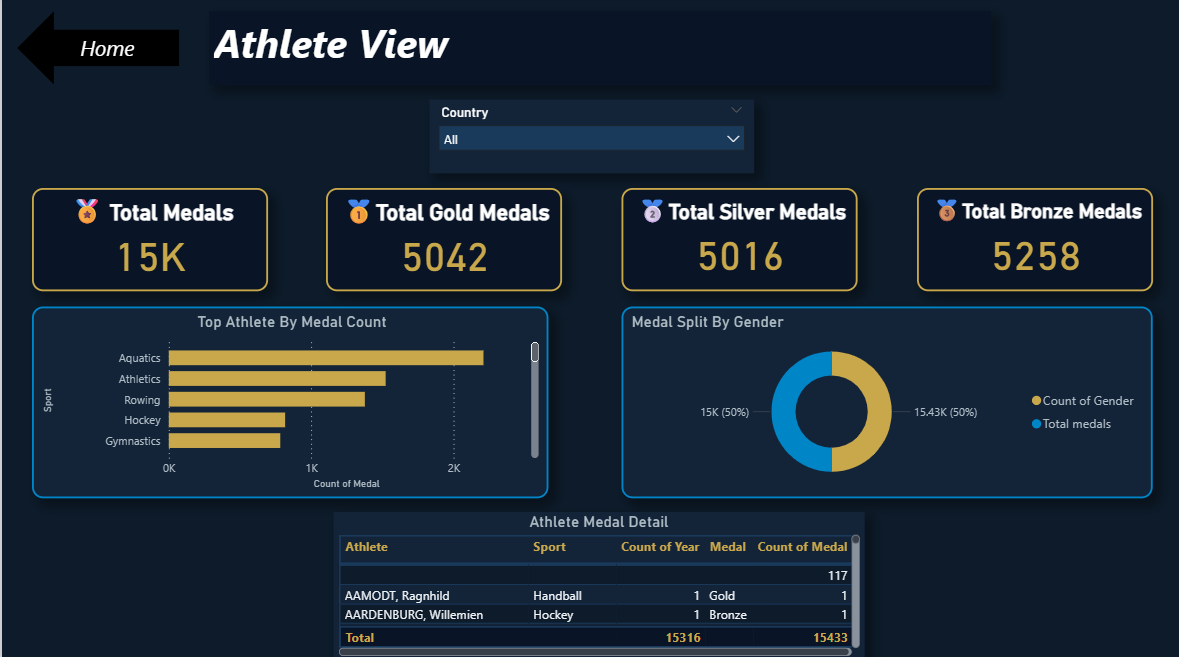

The dashboard page shown, as its layout file describes it:
{"tool":"powerbi","page":{"name":"Athlete View","canvas":[1280,720],"ordinal":3},"visuals":[{"type":"shape","box":[16,16,176,80],"z":0},{"type":"textbox","box":[224,16,848,80],"z":1000},{"type":"slicer","fields":{"Values":["Summer-Olympic-medals-1976-to-2008.Country"]},"box":[464,112,352,80],"z":2000},{"type":"card","title":"🏅 Total Medals","fields":{"Values":["Summer-Olympic-medals-1976-to-2008.Total medals"]},"box":[32,208,256,112],"z":3000},{"type":"card","title":"🥇Total Gold Medals","fields":{"Values":["Summer-Olympic-medals-1976-to-2008.Total Gold Medals"]},"box":[352,208,256,112],"z":4000},{"type":"card","title":"🥈Total Silver Medals","fields":{"Values":["Summer-Olympic-medals-1976-to-2008.Total Silver Medals"]},"box":[672,208,256,112],"z":5000},{"type":"card","title":"🥉Total Bronze Medals","fields":{"Values":["Summer-Olympic-medals-1976-to-2008.Total Bronze Medals"]},"box":[992,208,256,112],"z":6000},{"type":"clusteredBarChart","fields":{"Y":["CountNonNull(Summer-Olympic-medals-1976-to-2008.Medal)"],"Category":["Summer-Olympic-medals-1976-to-2008.Sport"]},"box":[32,336,560,208],"z":7000},{"type":"donutChart","fields":{"Y":["CountNonNull(Summer-Olympic-medals-1976-to-2008.Gender)","Summer-Olympic-medals-1976-to-2008.Total medals"]},"box":[672,336,576,208],"z":8000},{"type":"tableEx","fields":{"Values":["Summer-Olympic-medals-1976-to-2008.Athlete","Summer-Olympic-medals-1976-to-2008.Sport","CountNonNull(Summer-Olympic-medals-1976-to-2008.Year)","Summer-Olympic-medals-1976-to-2008.Medal","CountNonNull(Summer-Olympic-medals-1976-to-2008.Medal)"]},"box":[368,560,576,160],"z":9000}]}

Visuals, with their boxes in screenshot pixels (x1, y1, x2, y2), scaled from the page's 1280x720 canvas onto the 1179x657 screenshot:
shape: (x1=15, y1=15, x2=177, y2=88)
textbox: (x1=206, y1=15, x2=987, y2=88)
slicer - Summer-Olympic-medals-1976-to-2008.Country: (x1=427, y1=102, x2=752, y2=175)
"🏅 Total Medals" card: (x1=29, y1=190, x2=265, y2=292)
"🥇Total Gold Medals" card: (x1=324, y1=190, x2=560, y2=292)
"🥈Total Silver Medals" card: (x1=619, y1=190, x2=855, y2=292)
"🥉Total Bronze Medals" card: (x1=914, y1=190, x2=1150, y2=292)
clusteredBarChart - CountNonNull(Summer-Olympic-medals-1976-to-2008.Medal) x Summer-Olympic-medals-1976-to-2008.Sport: (x1=29, y1=307, x2=545, y2=496)
donutChart - CountNonNull(Summer-Olympic-medals-1976-to-2008.Gender) x Summer-Olympic-medals-1976-to-2008.Total medals: (x1=619, y1=307, x2=1150, y2=496)
tableEx - Summer-Olympic-medals-1976-to-2008.Athlete x Summer-Olympic-medals-1976-to-2008.Sport: (x1=339, y1=511, x2=870, y2=656)
